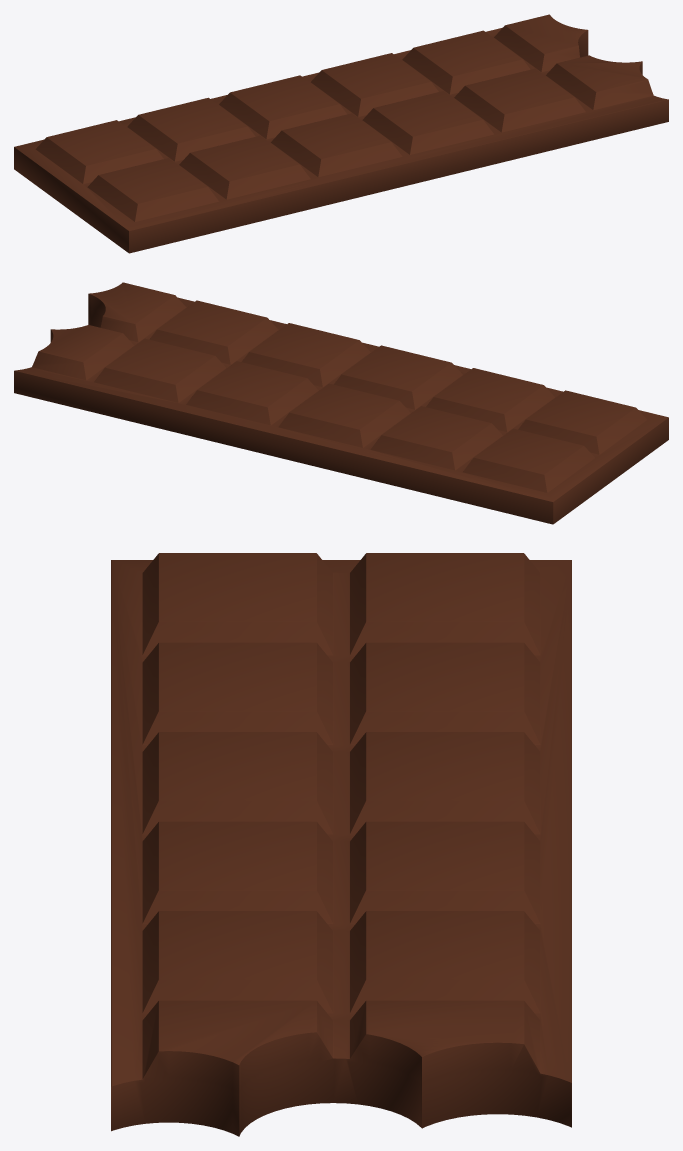
Rendered from chocolate_bar_bridge.glb.
3 renders of one model, top to bottom at view 1: azimuth 30°, elevation 25°; view 2: azimuth 150°, elevation 25°; view 3: azimuth 270°, elevation 25°, orthographic. The views are drawn at different scales.
Parts seen in each view (by area): view 1: chocolate_bar_bridge; view 2: chocolate_bar_bridge; view 3: chocolate_bar_bridge.
Boxes of the visible parts, x1,y1,x2,y2 form: chocolate_bar_bridge: (14,14,668,253); chocolate_bar_bridge: (14,282,668,524); chocolate_bar_bridge: (111,553,571,1136).
Size of the model in its own units: 8 by 0.5016 by 2.93.
